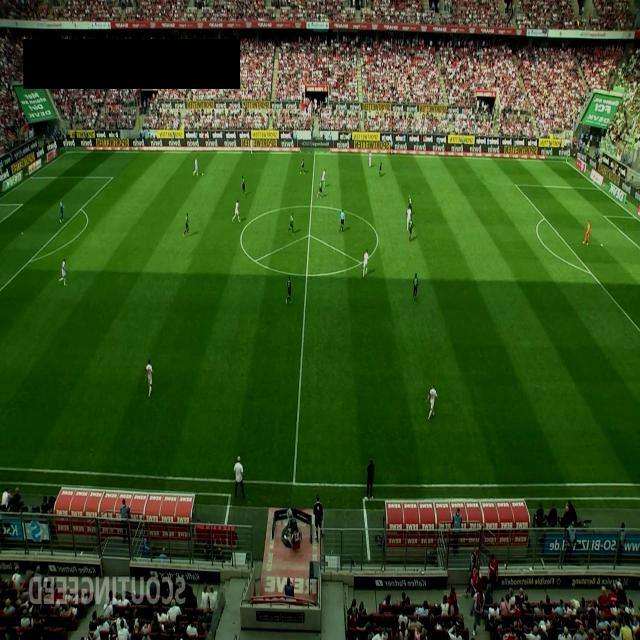ball: (202, 172, 204, 178)
goalkeeper: (582, 220, 590, 246), (60, 200, 64, 223)
player: (426, 384, 438, 421), (145, 358, 154, 398), (58, 258, 66, 286), (232, 199, 240, 223), (362, 249, 368, 278), (286, 276, 292, 304), (412, 273, 418, 301), (406, 204, 412, 231), (183, 212, 189, 238), (316, 180, 323, 200), (288, 211, 294, 234), (408, 218, 413, 242), (407, 194, 413, 214), (320, 168, 326, 186), (193, 158, 199, 176), (300, 156, 306, 173), (242, 175, 246, 196), (368, 150, 372, 167), (379, 160, 382, 176), (250, 139, 253, 155)
referee: (338, 208, 344, 233), (389, 137, 394, 155)
